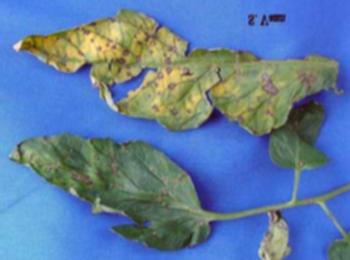Tomato Septoria leaf spot: (9, 4, 344, 139), (9, 121, 226, 255)
